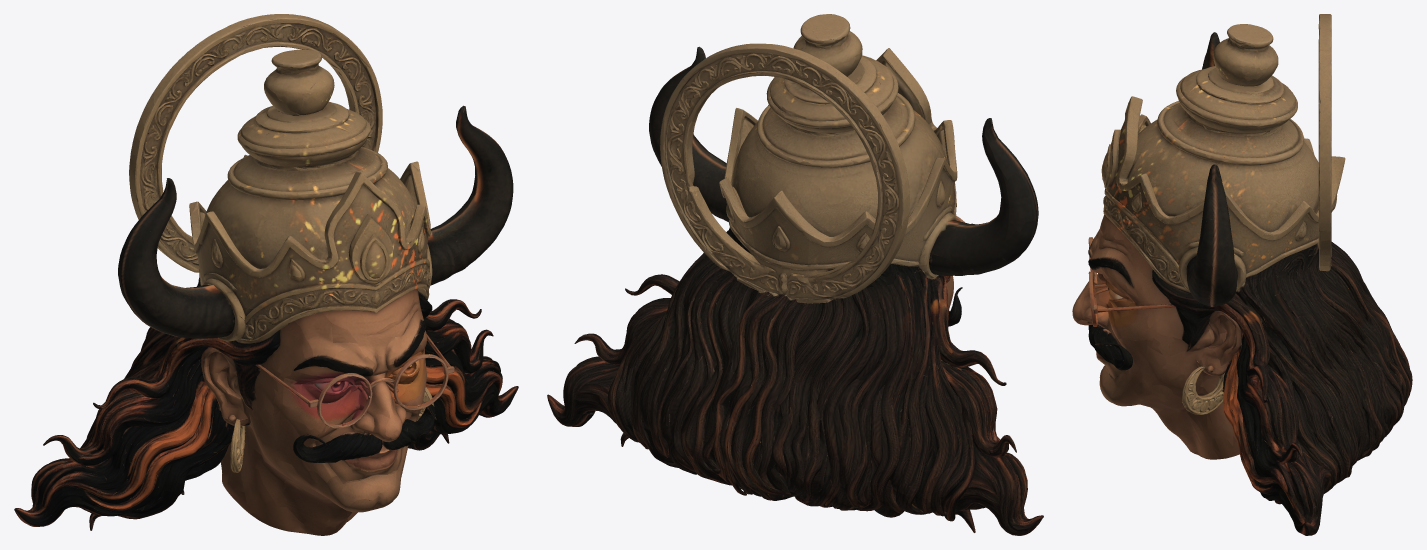
File: head-showman.glb
3 renders of one model, left to right at view 1: azimuth 30°, elevation 25°; view 2: azimuth 150°, elevation 25°; view 3: azimuth 270°, elevation 25°, orthographic. The views are drawn at different scales.
Parts seen in each view (by area): view 1: mesh_node; view 2: mesh_node; view 3: mesh_node.
Boxes of the visible parts, bbox=[...] form: mesh_node: bbox=[14, 14, 518, 535]; mesh_node: bbox=[547, 14, 1043, 535]; mesh_node: bbox=[1072, 14, 1412, 535].
Size of the model in its own units: 1.9 by 1.66 by 1.22.
1 material, 1 textured.
